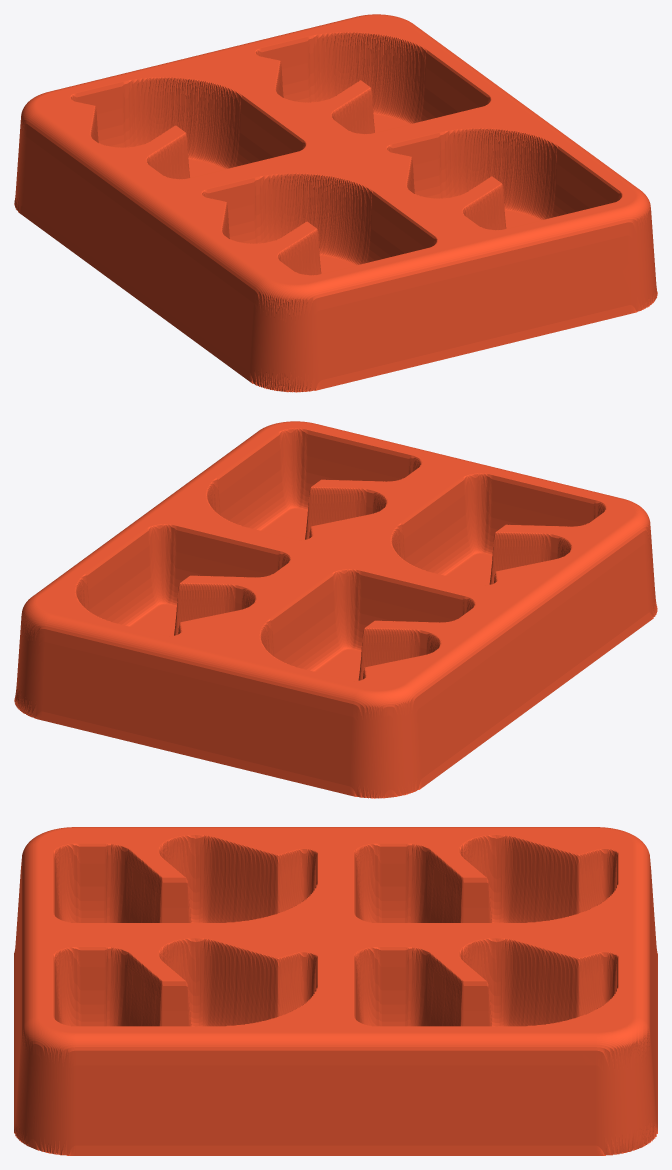
Rendered from mold.glb.
The picture shows the model from 3 angles, top to bottom: view 1: azimuth 30°, elevation 25°; view 2: azimuth 150°, elevation 25°; view 3: azimuth 270°, elevation 25°; orthographic projection. The views are drawn at different scales.
Parts seen in each view (by area): view 1: geometry_0; view 2: geometry_0; view 3: geometry_0.
Boxes of the visible parts, x1,y1,x2,y2 form: geometry_0: [14, 14, 657, 392]; geometry_0: [14, 421, 657, 798]; geometry_0: [14, 827, 657, 1155].
Bounding box in the file's own units: 0.0778 × 0.0182 × 0.0942.
